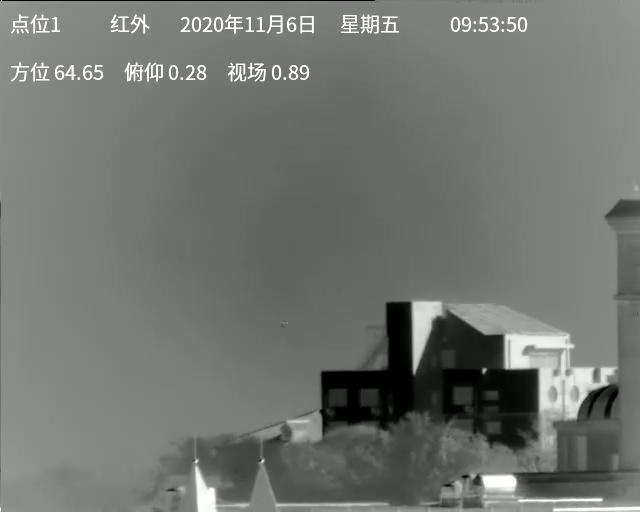uav: (280, 320, 290, 328)
